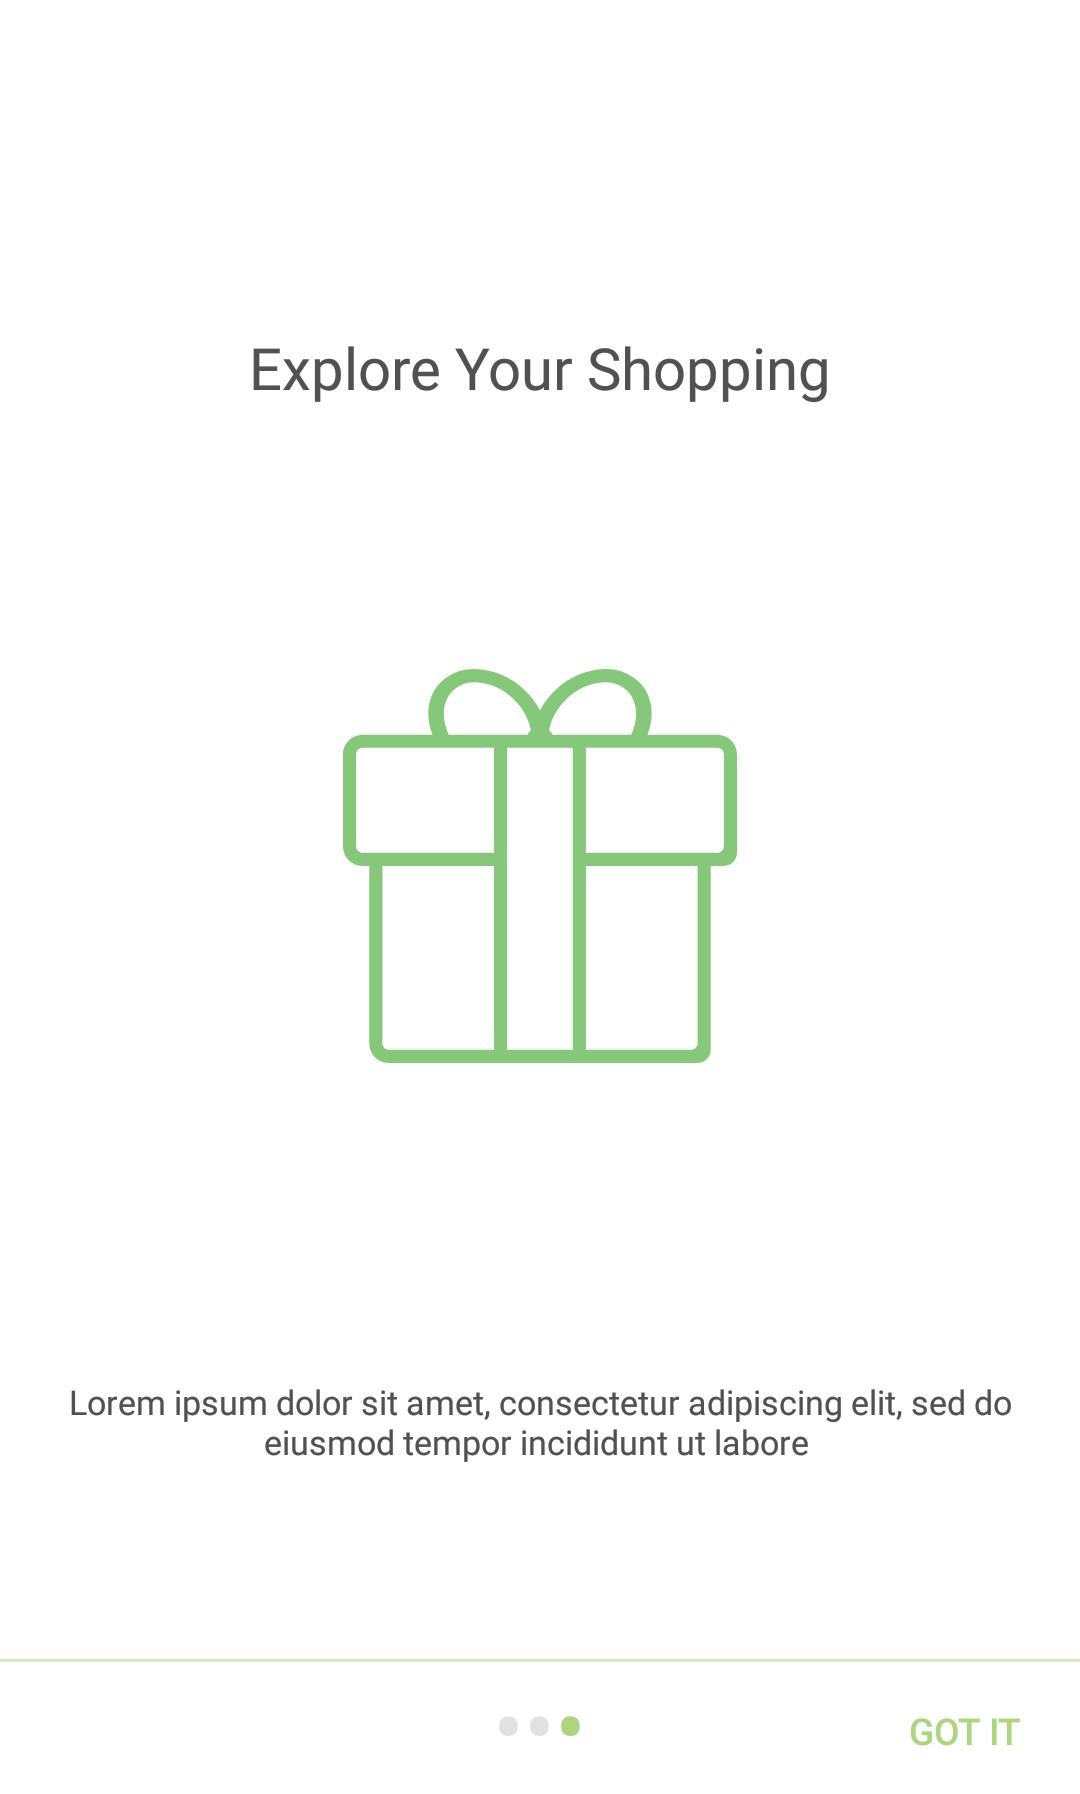Image: (343, 668, 738, 1064)
PageIndicator: (498, 1715, 582, 1738)
Text: (70, 1388, 1012, 1463), (252, 345, 828, 405), (910, 1716, 1022, 1748)
